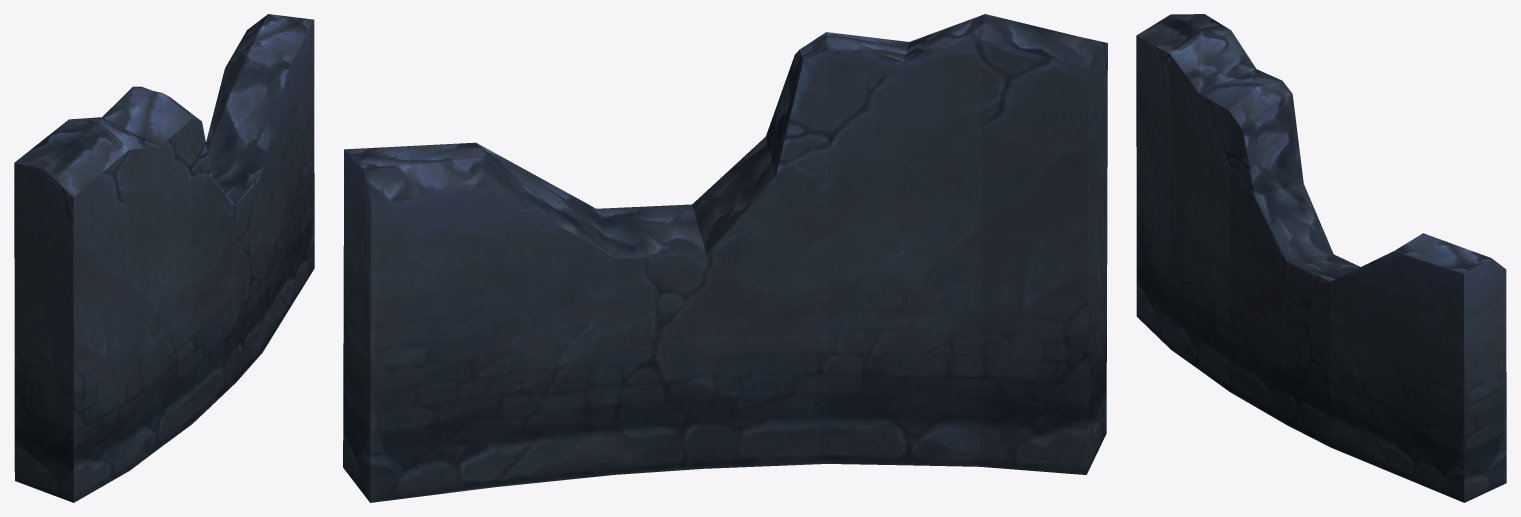
The model's file is yw_bingyuan_weiqiang_003.FBX.
The picture shows the model from 3 angles, left to right: view 1: azimuth 30°, elevation 25°; view 2: azimuth 150°, elevation 25°; view 3: azimuth 270°, elevation 25°; orthographic projection. The views are drawn at different scales.
Parts seen in each view (by area): view 1: yw_bingyuan_weiqiang_003; view 2: yw_bingyuan_weiqiang_003; view 3: yw_bingyuan_weiqiang_003.
Boxes of the visible parts, x1,y1,x2,y2 form: yw_bingyuan_weiqiang_003: [14, 14, 314, 502]; yw_bingyuan_weiqiang_003: [343, 14, 1107, 502]; yw_bingyuan_weiqiang_003: [1136, 14, 1506, 502].
Bounding box in the file's own units: 8.78 × 6.94 × 6.45.
